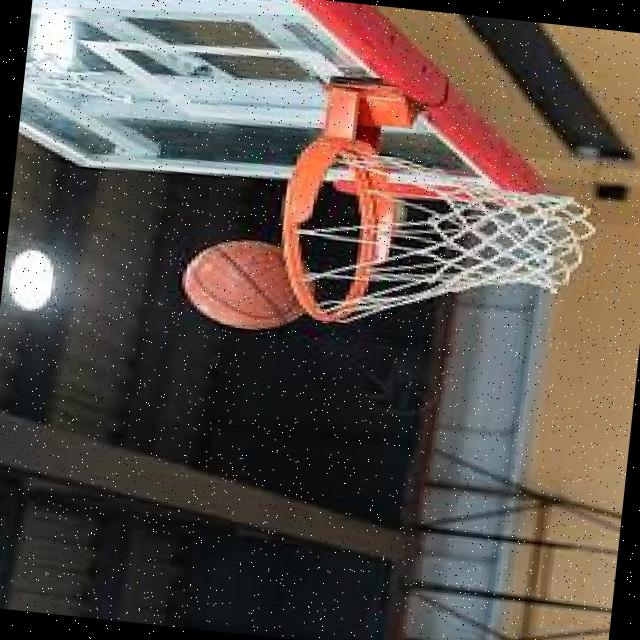ball: (178, 234, 288, 331)
hoop: (279, 127, 379, 327)
